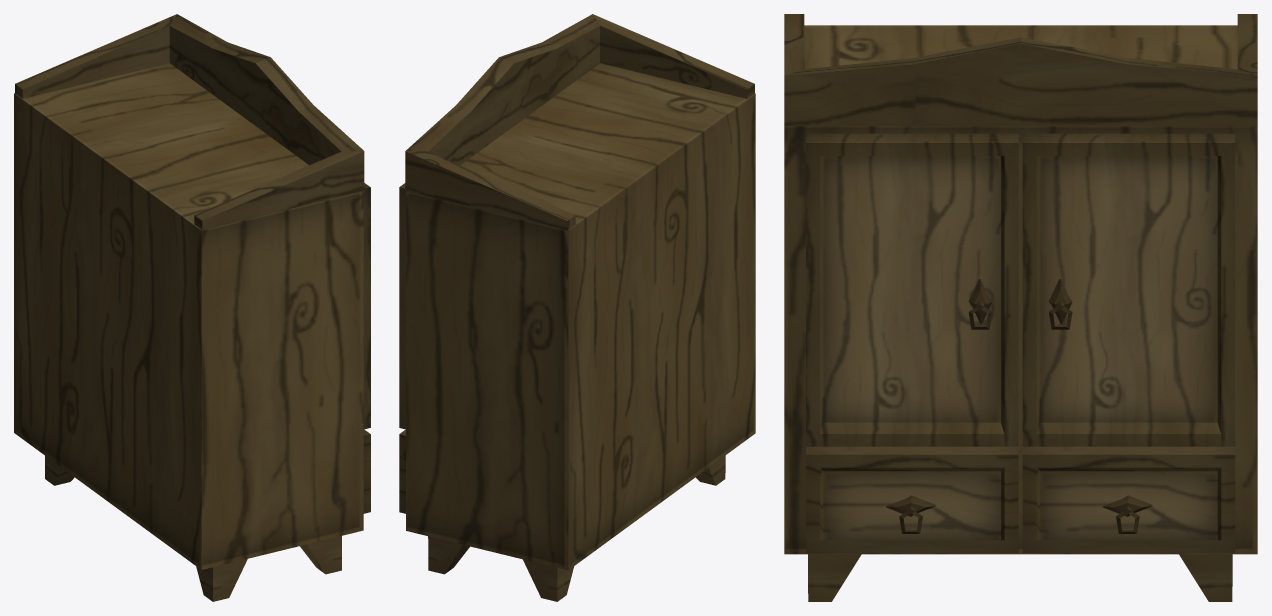
The model's file is szafa_01.fbx.
3 views of the same model, side by side, from view 1: azimuth 30°, elevation 25°; view 2: azimuth 150°, elevation 25°; view 3: azimuth 270°, elevation 25° (orthographic). The views are drawn at different scales.
Visible parts, largest first — view 1: Cube.001; view 2: Cube.001; view 3: Cube.001.
Part boxes in pixels (x1=…): Cube.001: x1=14, y1=14, x2=370, y2=601; Cube.001: x1=399, y1=14, x2=755, y2=601; Cube.001: x1=784, y1=14, x2=1257, y2=601.
Size of the model in its own units: 352 by 820 by 621.
